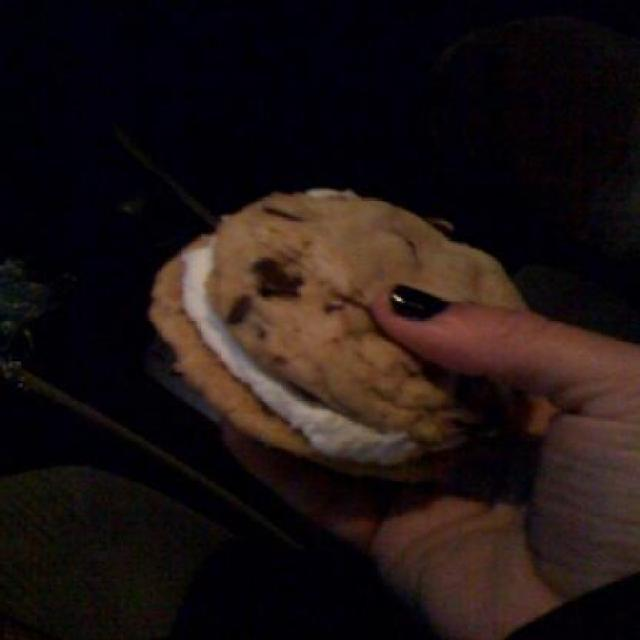Cookie: (154, 185, 536, 483)
